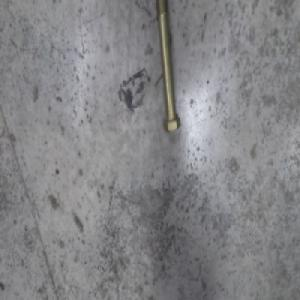Bolt: (155, 0, 181, 131)
